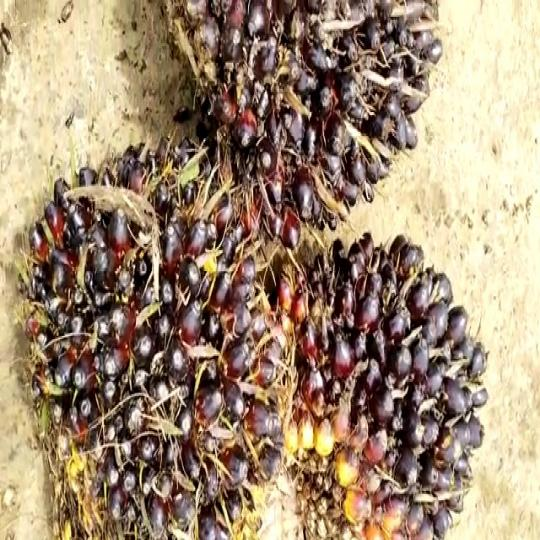mentah: (21, 140, 290, 540), (146, 0, 448, 253), (276, 221, 479, 540)
